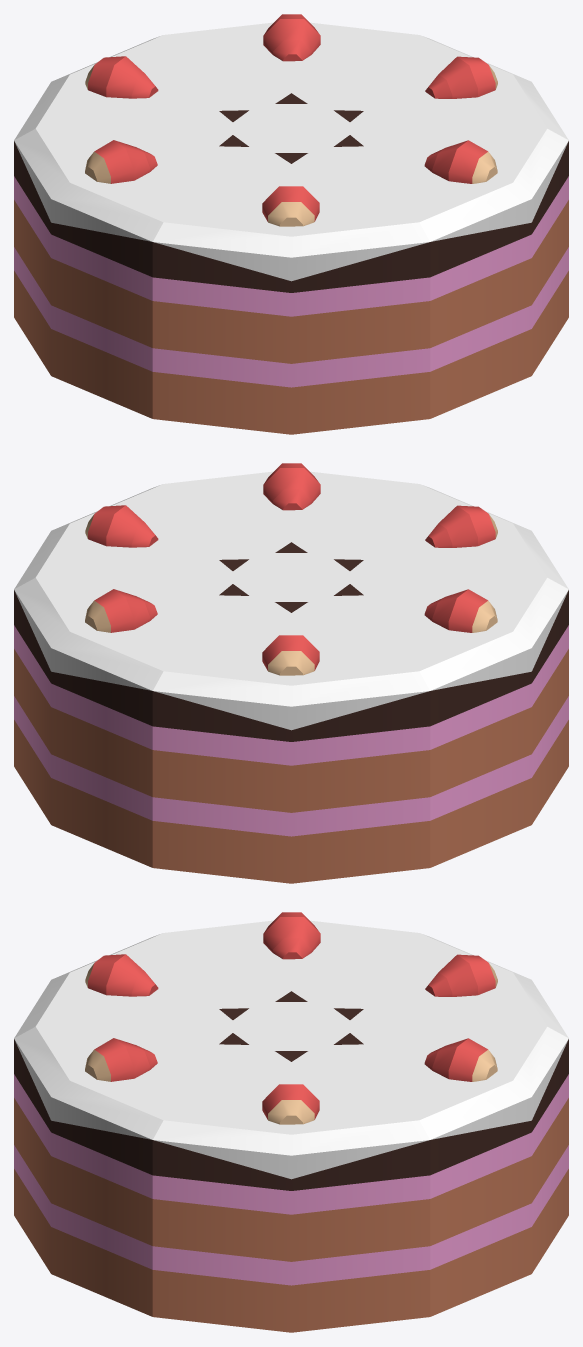
Rendered from cake.obj.
3 views of the same model, one above another, from view 1: azimuth 30°, elevation 25°; view 2: azimuth 150°, elevation 25°; view 3: azimuth 270°, elevation 25° (orthographic).
Visible parts, largest first — view 1: slice; view 2: slice; view 3: slice.
Part boxes in pixels (left/top/right/bottom): slice: left=14, top=14, right=568, bottom=434; slice: left=14, top=463, right=568, bottom=883; slice: left=14, top=912, right=568, bottom=1332.
Size of the model in its own units: 0.6392 by 0.2731 by 0.6392.
